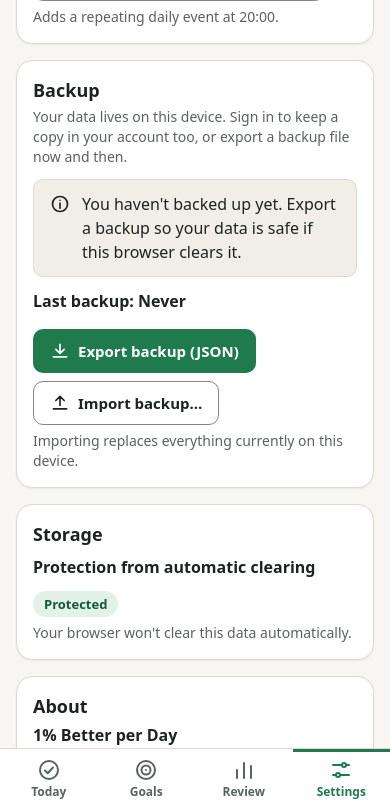
Test: Settings — ExportSignInHint (FR-53, M8-AC3) › offline export: no hint and the slot is not used (OQ-D12); a hint that is showing when the device goes offline disables its button with the reason
(page scrolled)
Click the button "Export backup (JSON)" at (144, 351), box [33, 329, 256, 373]
(page scrolled)
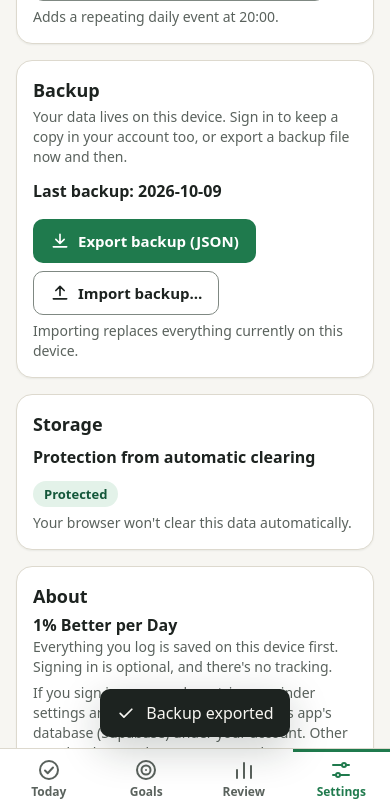
Now the element with test id "toast" reads "Backup exported", box [146, 702, 274, 724]
Click the button "Export backup (JSON)" at (144, 241), box [33, 219, 256, 263]
(page scrolled)
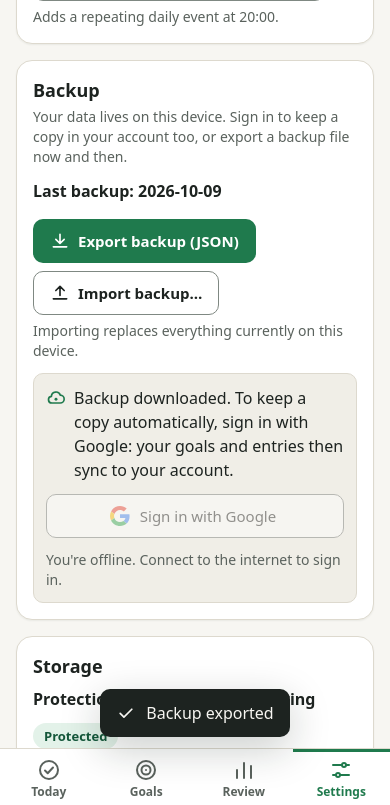
Now the button "Sign in with Google" is disabled, box [46, 494, 344, 538]
